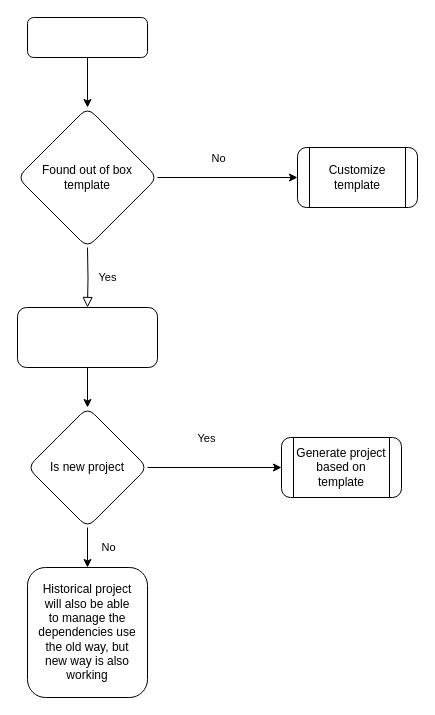
The diagram is 435 pixels wide and 715 high, and some of its shapes have lost their labels. Each missing label, with the box of its shape:
Copy the command and create new project: (16, 306, 158, 368)
Open Template Store: (26, 16, 148, 58)
